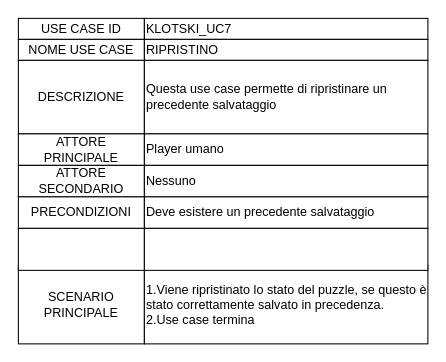
This 446x362 diagram has some shape labels left out. The centre of each missing label's shape, as x and y in pixels:
"POSTCONDIZIONI" goes at (x=80, y=248).
"Ripristino dello stato corrente" goes at (x=285, y=248).
